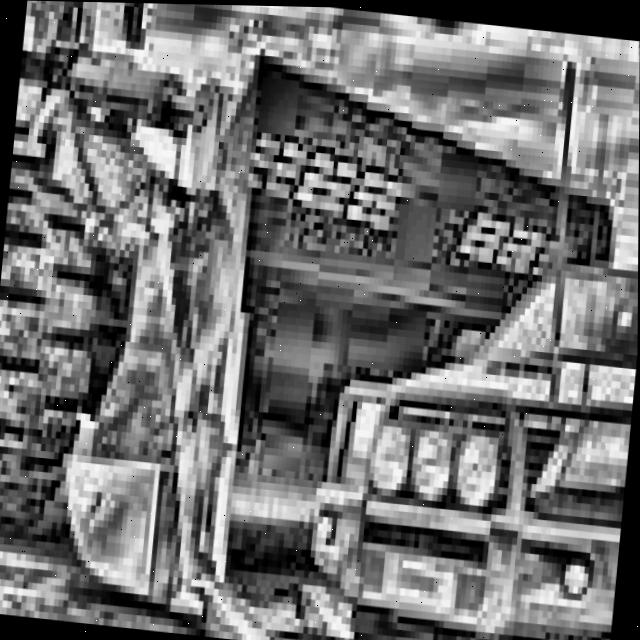buldozerpayloadergrader: (0, 0, 579, 640)
light_vehicle: (269, 143, 639, 640)
